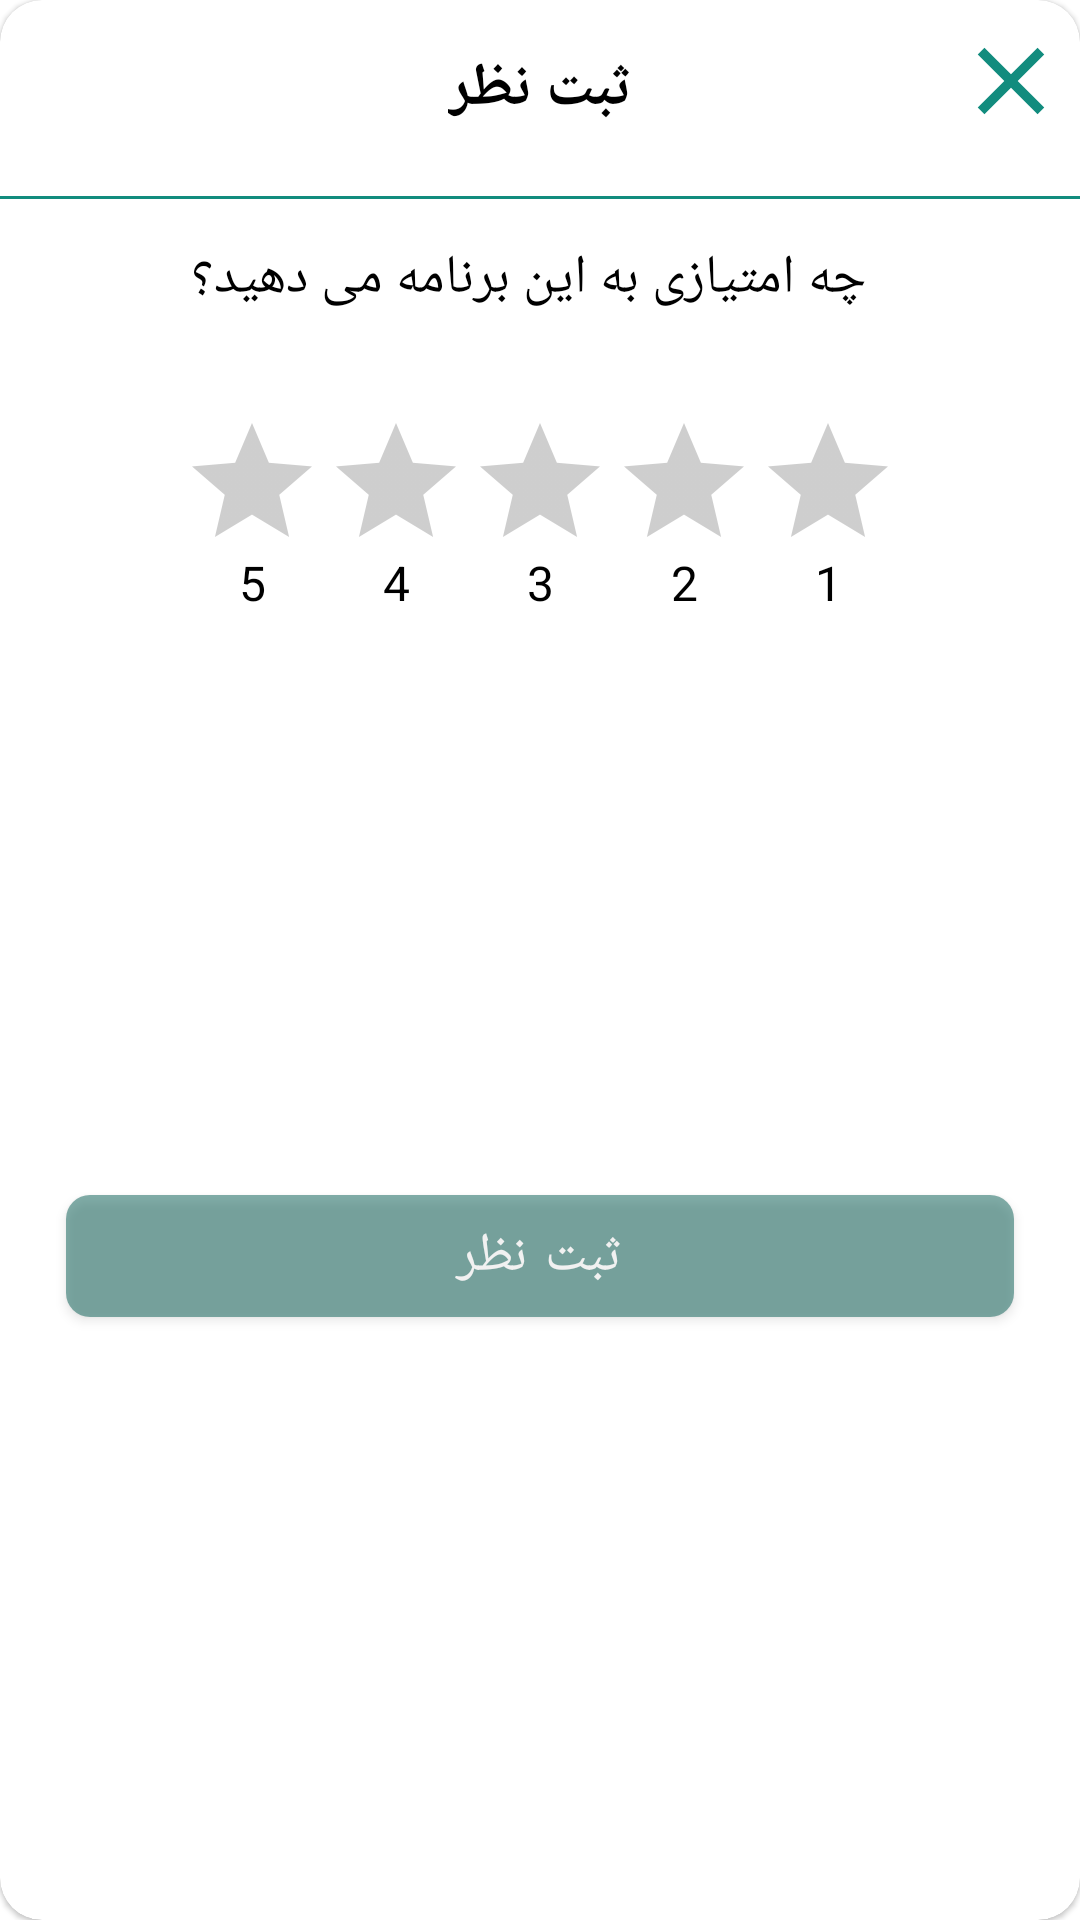

Where icons sit on this 1080×1920 app screen, as box=[x1, y1, x2, y2]:
close: box=[978, 48, 1044, 114]
